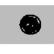correct: (18, 12, 42, 36)
